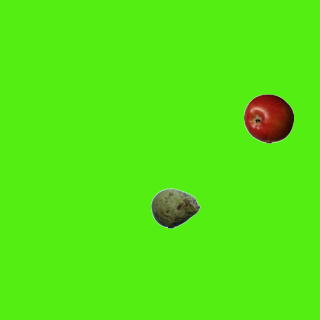Apple Braeburn: (243, 93, 293, 143)
Pear Stone: (150, 183, 200, 233)
